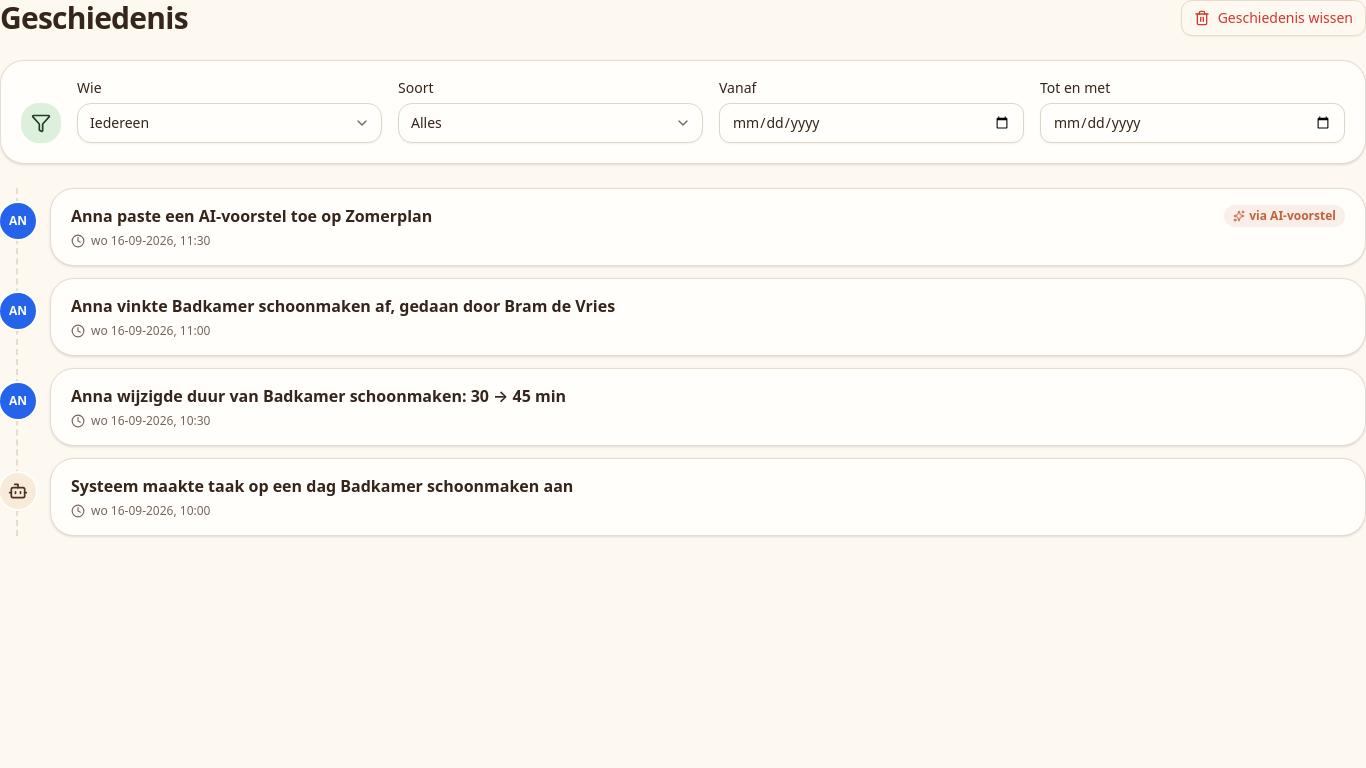
Test: HistoryPage › clears all history after explicit confirmation
The width and height of the screenshot is (1366, 768).
Click the button "Geschiedenis wissen" at (1273, 18), box [1181,0,1365,36]
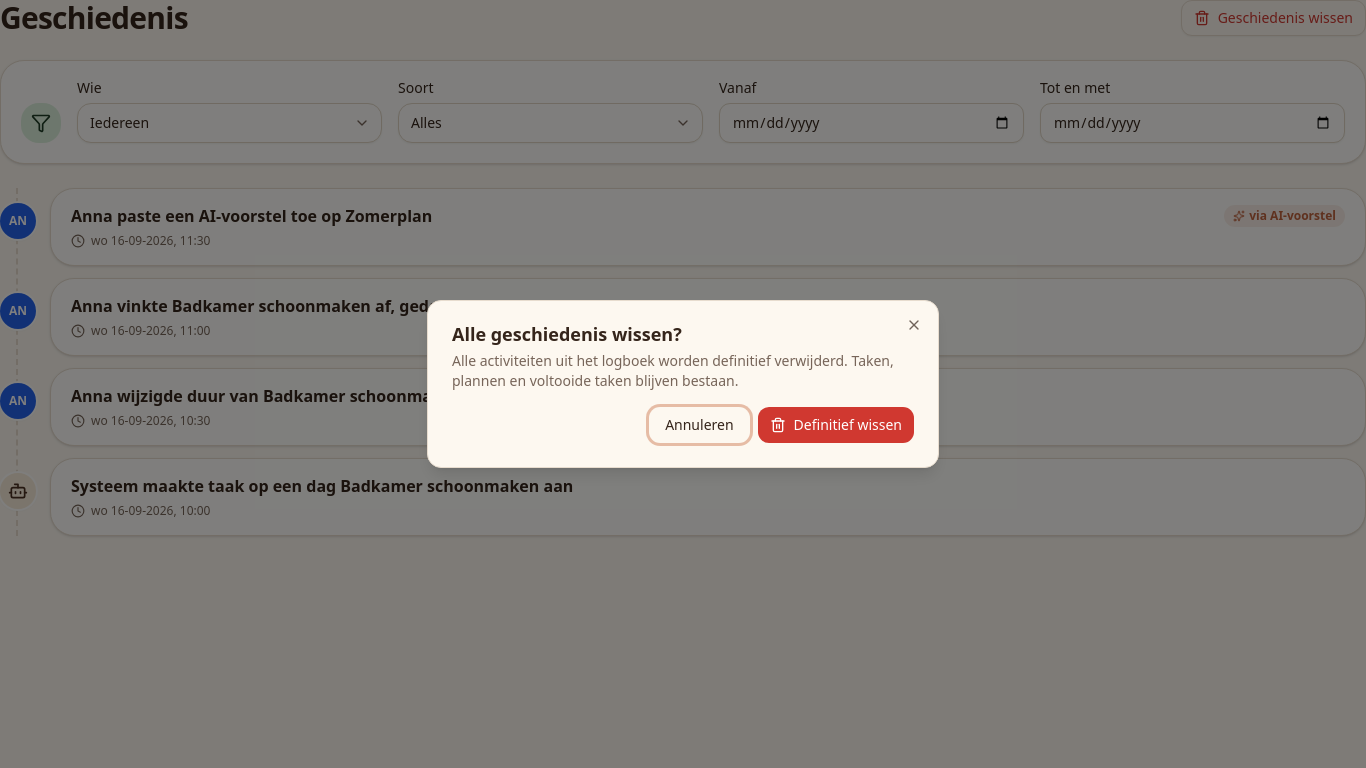
Expected: the heading "Alle geschiedenis wissen?" is shown, [452,322,682,346]
Click the button "Definitief wissen" at (836, 425), box [758,407,914,443]
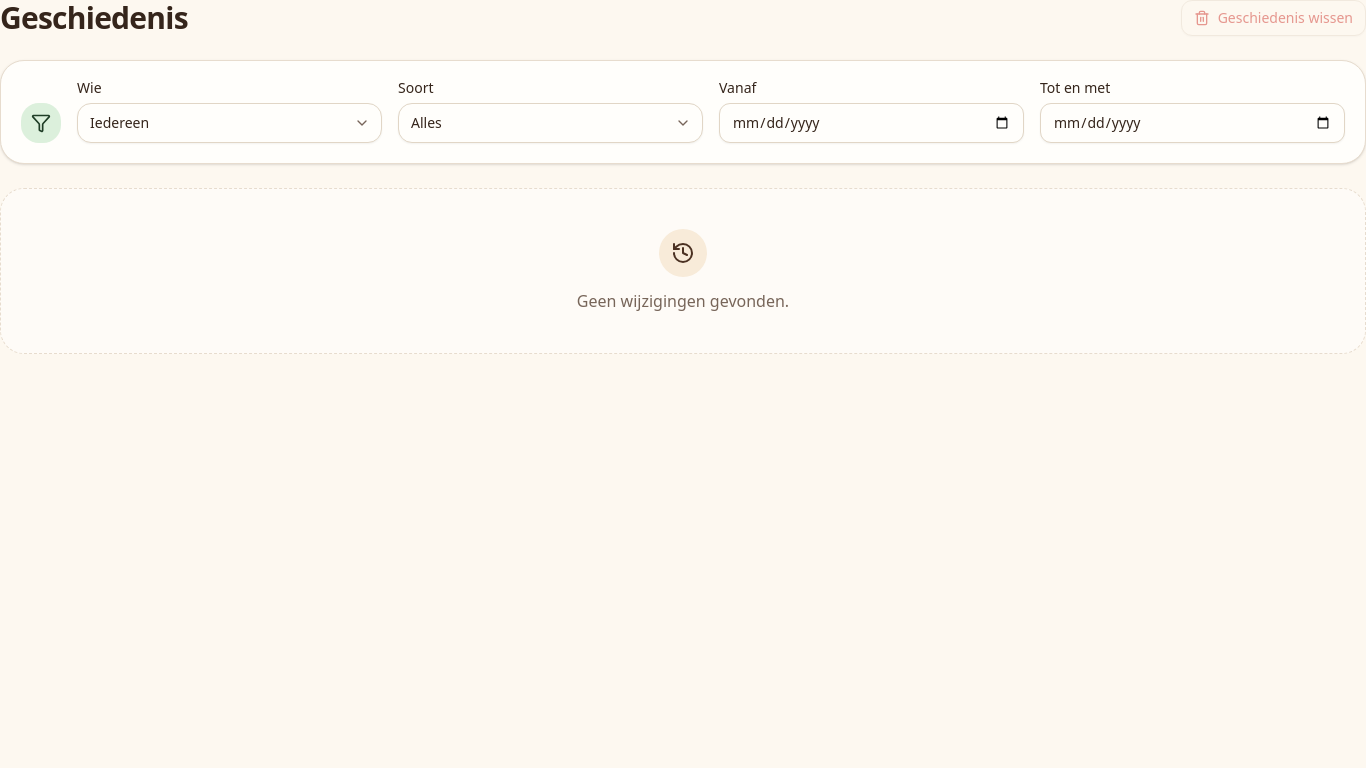
Expected: the text "Geen wijzigingen gevonden." is shown, [577,289,789,313]
